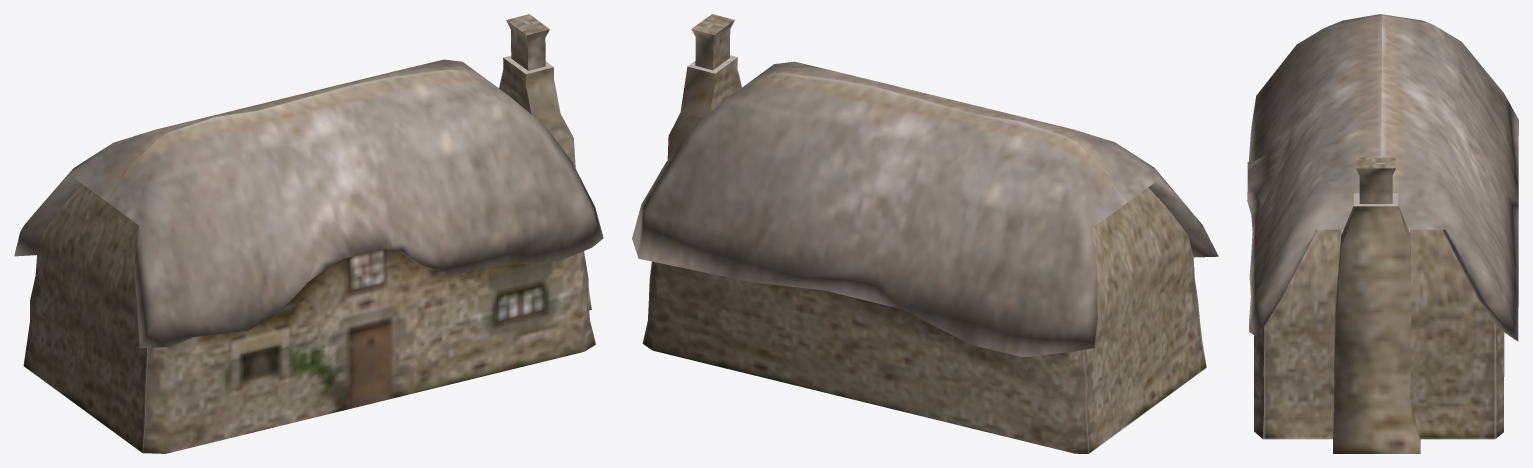
File: mruh1lod4.fbx
3 renders of one model, left to right at view 1: azimuth 30°, elevation 25°; view 2: azimuth 150°, elevation 25°; view 3: azimuth 270°, elevation 25°, orthographic. The views are drawn at different scales.
Visible parts, largest first — view 1: U3DMesh; view 2: U3DMesh; view 3: U3DMesh.
Part boxes in pixels (x1,y1,x2,y2): U3DMesh: (14,14,603,453); U3DMesh: (632,14,1218,453); U3DMesh: (1247,14,1518,453).
Bounding box in the file's own units: 527 × 287 × 260.
Materials: 1 (1 with a texture image).
